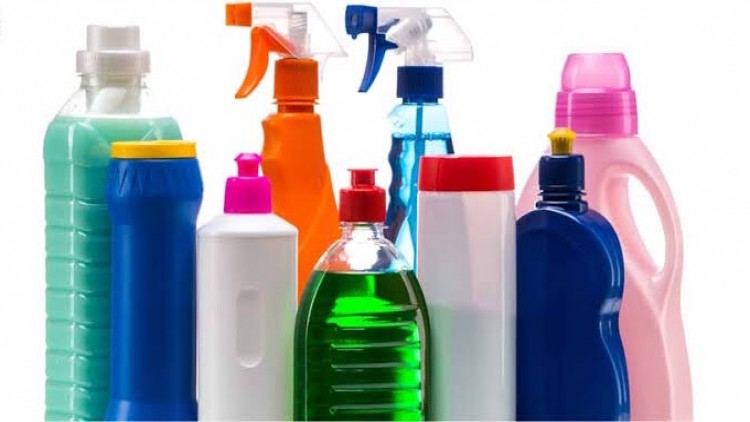Cleaning_solution: (508, 43, 704, 422), (501, 124, 634, 422), (291, 159, 433, 422), (217, 1, 357, 259), (339, 1, 479, 259), (403, 139, 528, 422), (98, 132, 210, 422), (188, 149, 306, 422)
